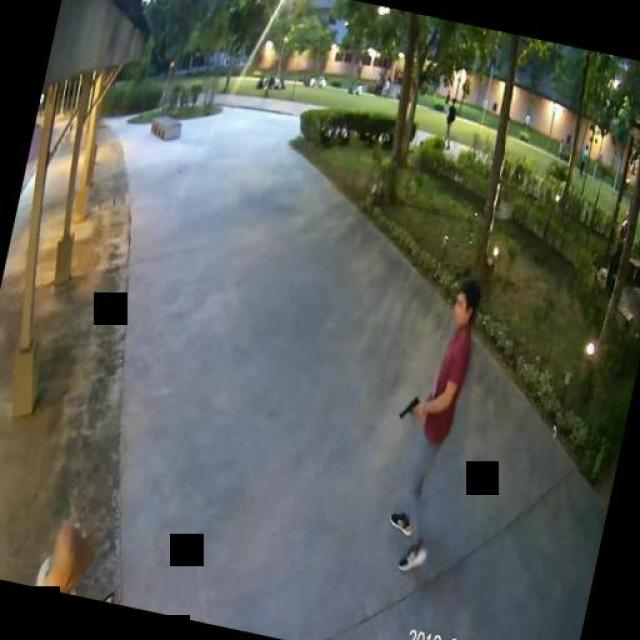gun: (398, 390, 422, 421)
